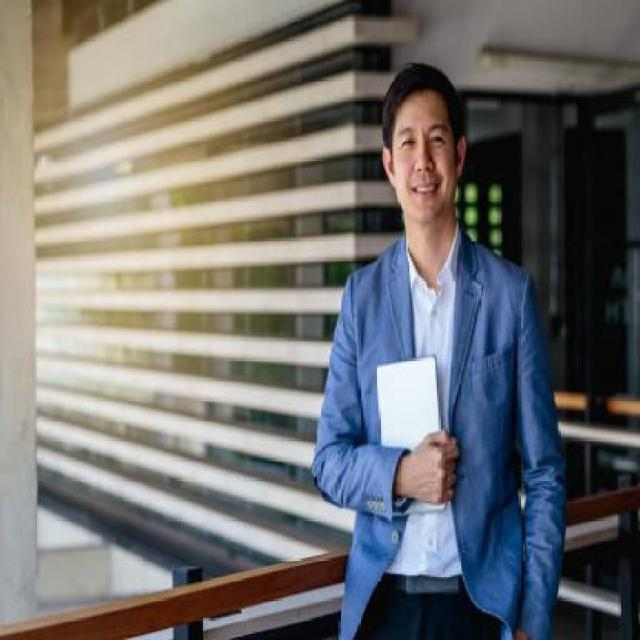sem_oculos: (377, 122, 469, 161)
